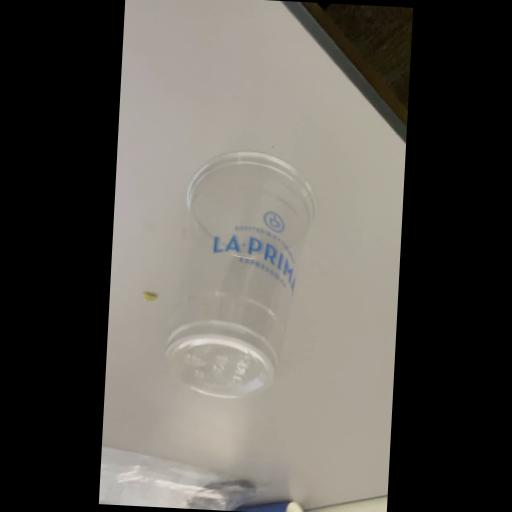lp_plastic_cup: (163, 148, 323, 408)
